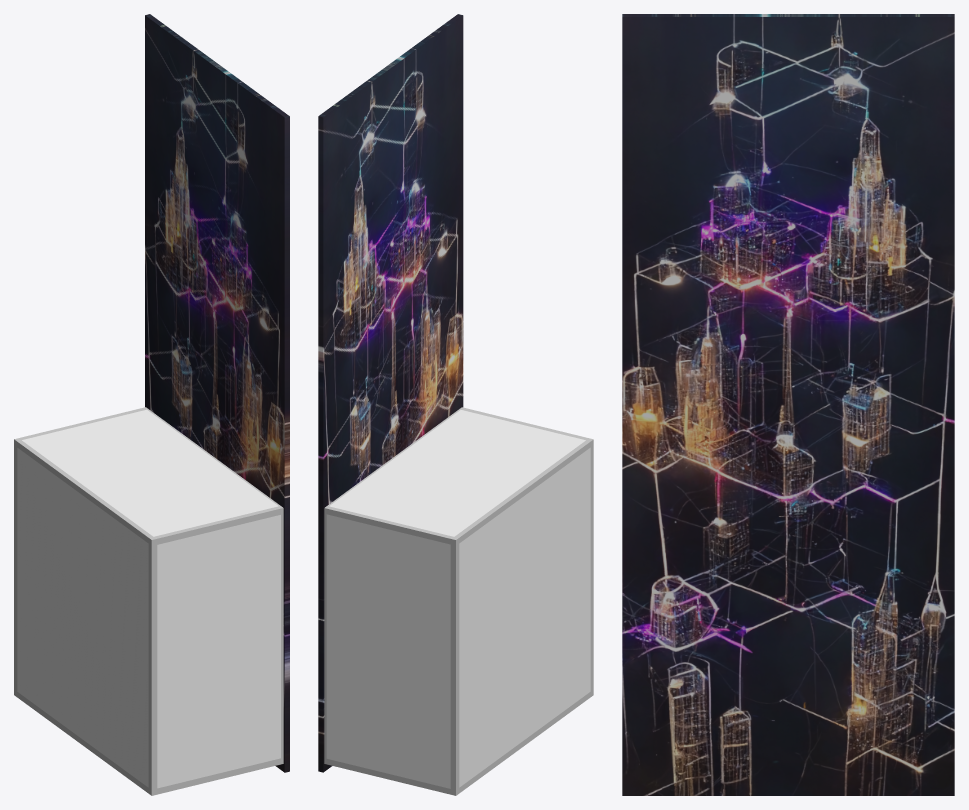
File: booth02.fbx
3 views of the same model, side by side, from view 1: azimuth 30°, elevation 25°; view 2: azimuth 150°, elevation 25°; view 3: azimuth 270°, elevation 25° (orthographic). The views are drawn at different scales.
Visible parts, largest first — view 1: booth.002; view 2: booth.002; view 3: booth.002.
Boxes of the visible parts, x1=… form: booth.002: x1=14, y1=14, x2=289, y2=795; booth.002: x1=318, y1=14, x2=593, y2=795; booth.002: x1=622, y1=14, x2=954, y2=795.
Size of the model in its own units: 53.59 by 245 by 94.83.
Materials: 2 (2 with a texture image).
